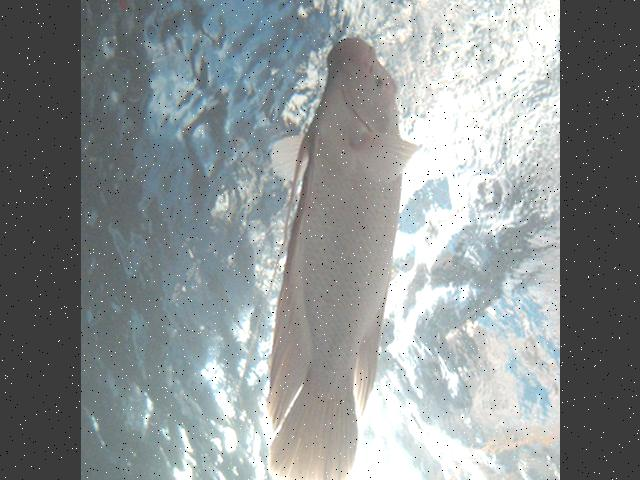Sirip Anal: (248, 258, 324, 436)
Sirip Dada: (328, 114, 436, 204)
Sirip Ekor: (245, 371, 381, 480)
